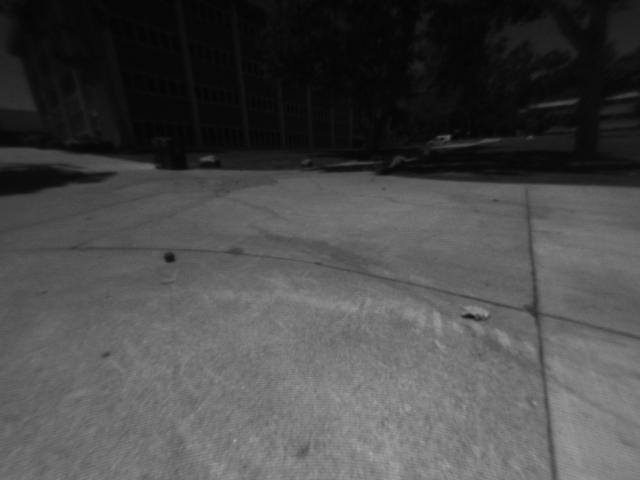dogtoy: (158, 246, 181, 268)
